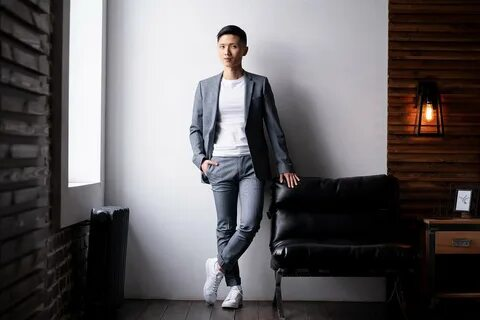awake: (189, 24, 295, 310)
